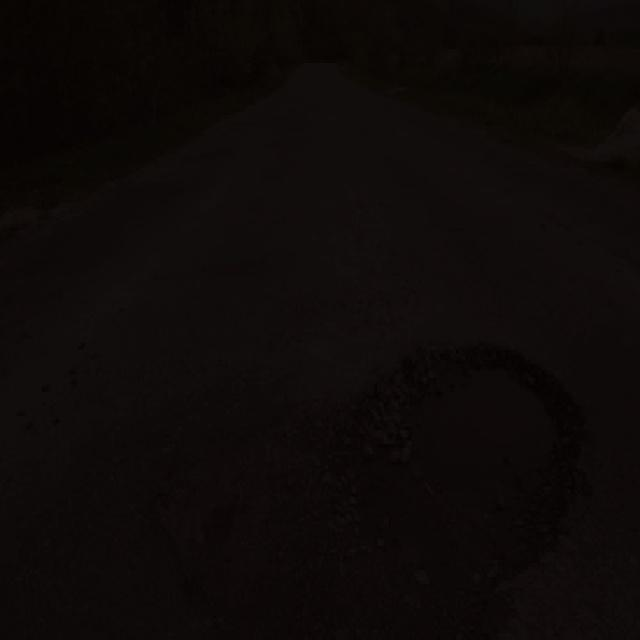Pothole: (117, 327, 606, 640)
